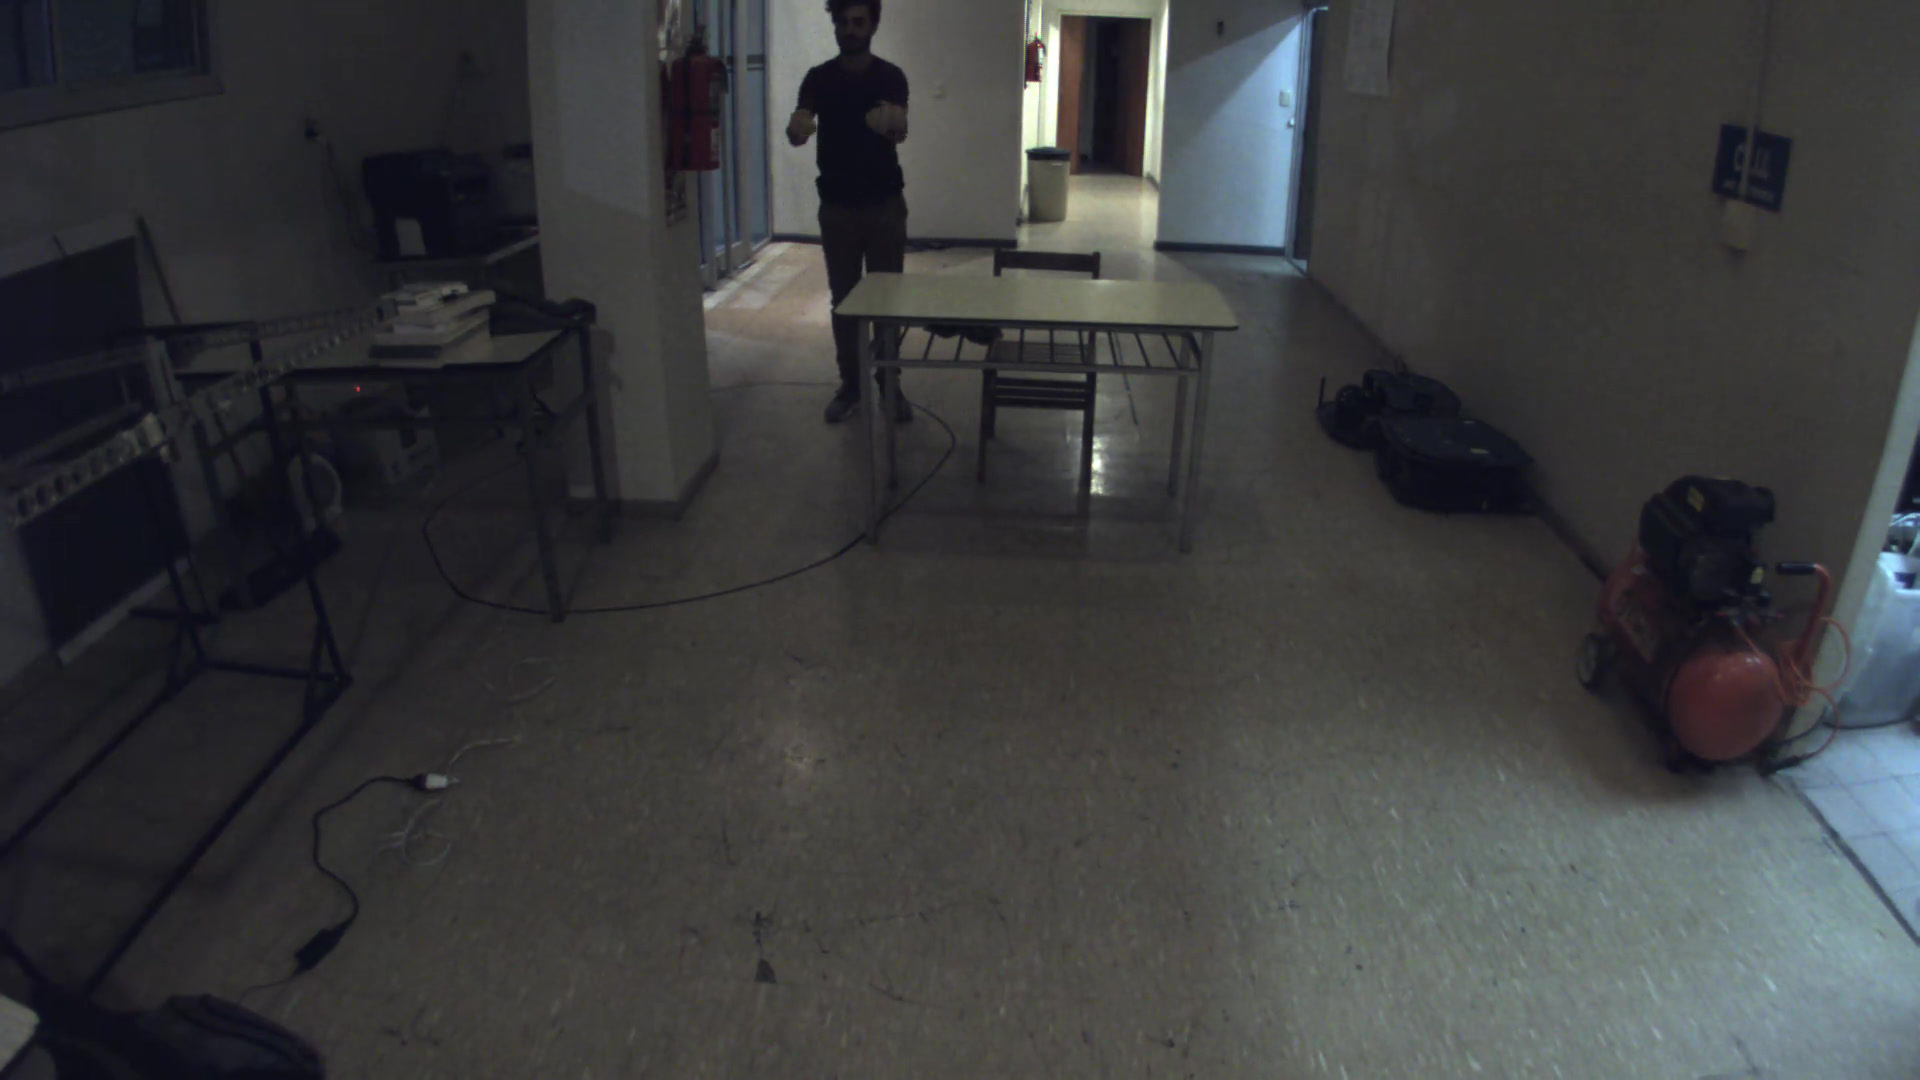hand: (778, 90, 829, 144), (848, 99, 905, 138)
